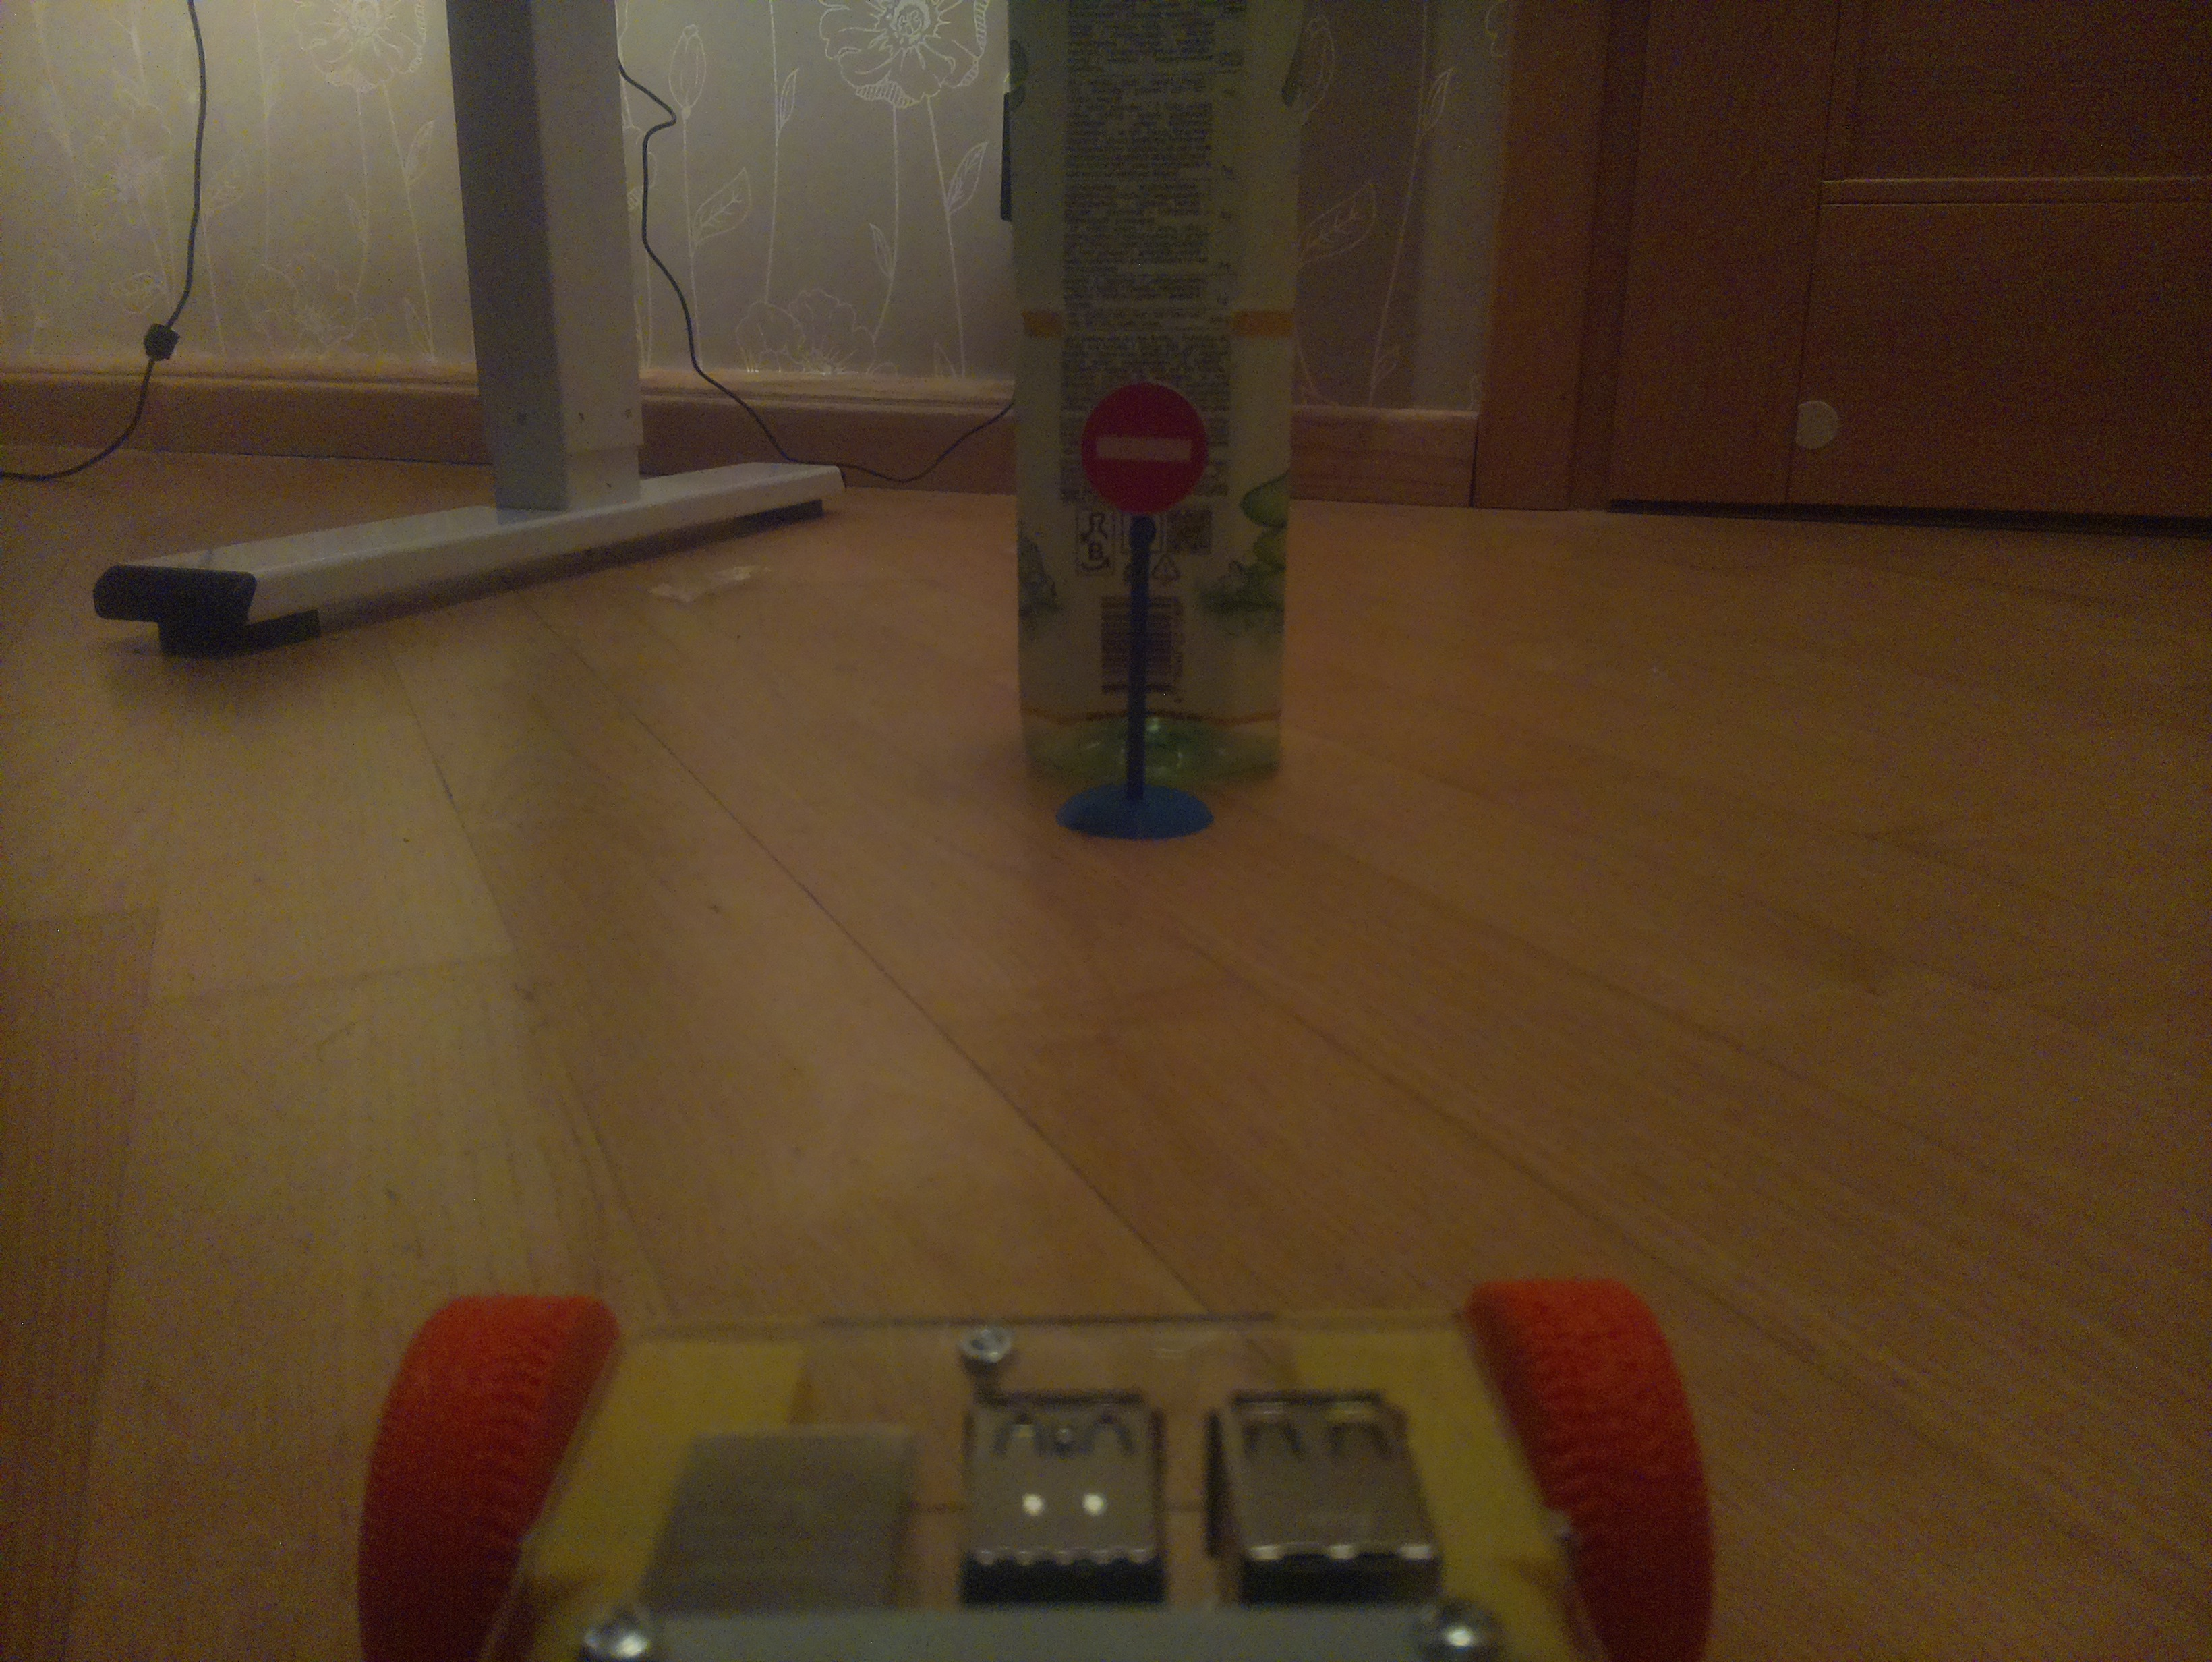brick: (1723, 438, 2016, 730)
